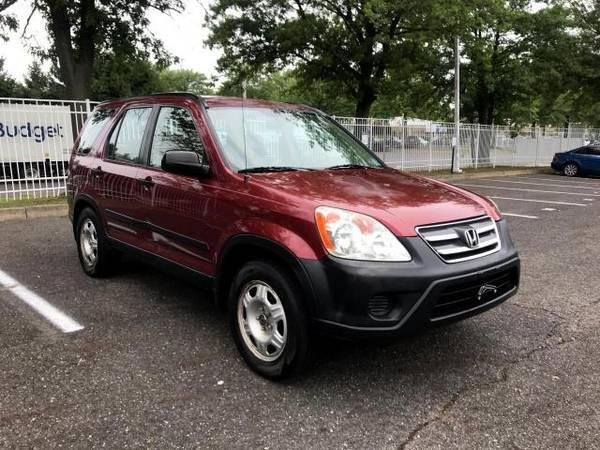Front_Bumper: (293, 216, 523, 338)
Front_Fender: (221, 168, 330, 260)
Front_Right_Door: (142, 160, 224, 278)
Front_Right_Window: (148, 101, 222, 175)
Front_Windshield: (206, 103, 383, 173)
Grille: (414, 216, 499, 264)
Hood: (238, 165, 501, 235)
Rear_Fender: (66, 106, 122, 216)
Rear_Right_Door: (88, 154, 146, 248)
Rear_Right_Window: (97, 103, 159, 165)
Right_Headlight: (317, 203, 413, 263)
Roof: (102, 91, 328, 172)
Wheel: (228, 262, 301, 375), (76, 208, 103, 273)
